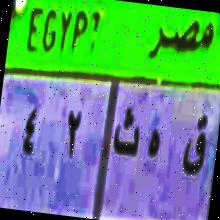2: (61, 99, 86, 158)
4: (16, 102, 42, 165)
haa: (141, 130, 166, 166)
qaaf: (180, 113, 210, 182)
thaa: (110, 106, 143, 163)
